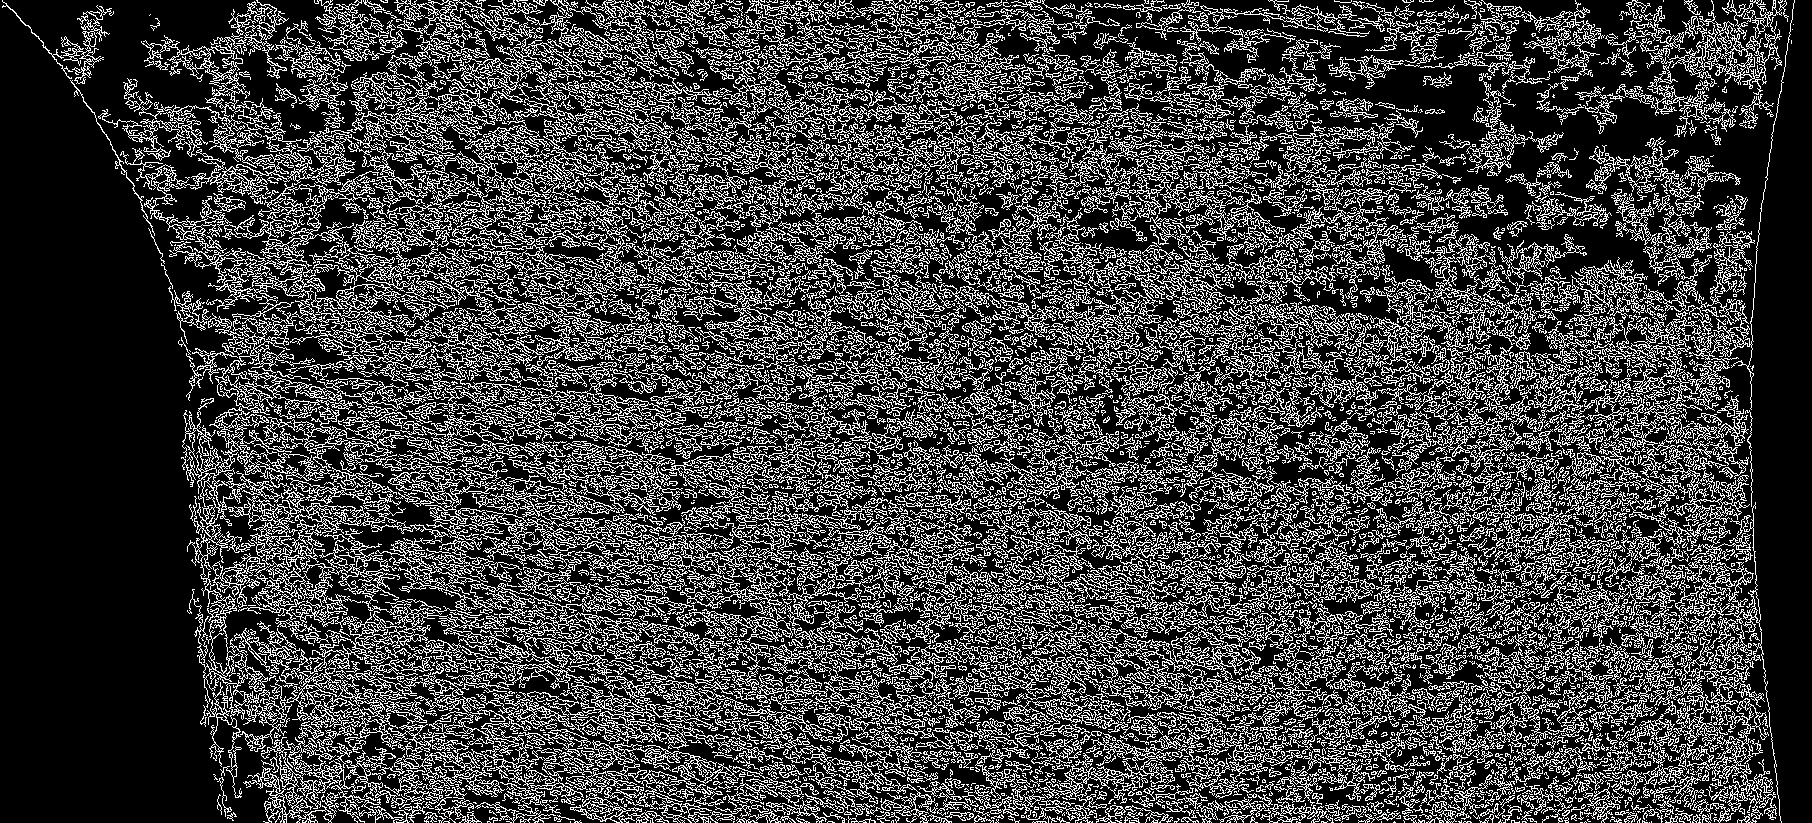singlecore: (786, 236, 790, 239), (1247, 691, 1252, 695), (1545, 413, 1549, 417), (1572, 532, 1575, 536), (1612, 685, 1616, 690), (846, 71, 849, 74), (881, 223, 884, 227), (831, 540, 834, 543), (857, 507, 861, 511), (837, 599, 840, 602), (1218, 386, 1221, 390), (1632, 697, 1635, 700), (824, 238, 827, 240), (877, 402, 881, 405), (883, 455, 886, 458), (809, 476, 812, 479), (857, 762, 860, 765), (928, 706, 931, 709), (1106, 292, 1109, 295), (1243, 563, 1246, 566), (1171, 544, 1174, 547), (1144, 564, 1146, 568), (1180, 679, 1183, 681), (1257, 742, 1260, 746), (1175, 726, 1178, 729), (1590, 422, 1592, 425), (1498, 365, 1501, 368), (1588, 455, 1591, 458), (1580, 537, 1583, 540), (1546, 697, 1549, 700), (918, 147, 920, 149), (826, 366, 829, 369), (790, 558, 793, 561), (1614, 550, 1617, 553)
